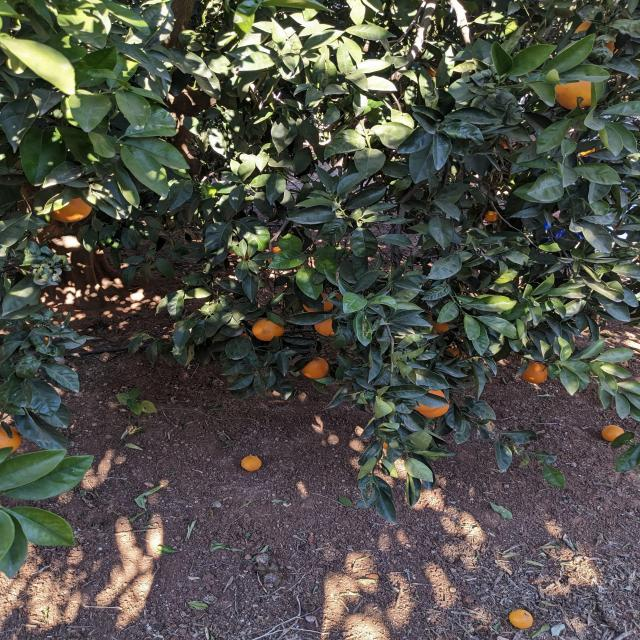Jeruk Sudah Matang: (556, 70, 614, 112), (51, 192, 98, 226), (412, 386, 459, 420), (253, 315, 287, 344), (300, 292, 342, 314), (439, 344, 471, 372), (0, 422, 23, 460), (312, 312, 344, 339), (300, 356, 334, 381), (430, 314, 460, 338), (524, 361, 554, 383), (266, 244, 294, 262), (474, 210, 502, 225)
